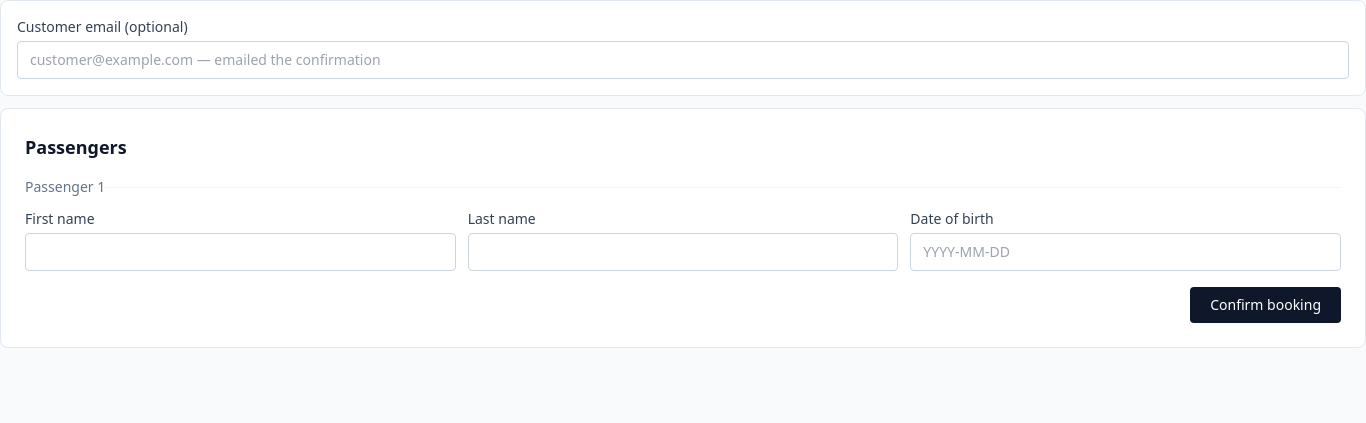
Test: BookingFlow › shows an error and no confirmation when the booking fails
Type "Jane" into the field labelled "First name" at {"x": 240, "y": 252}, box top-left (25, 233), bottom-right (456, 271)
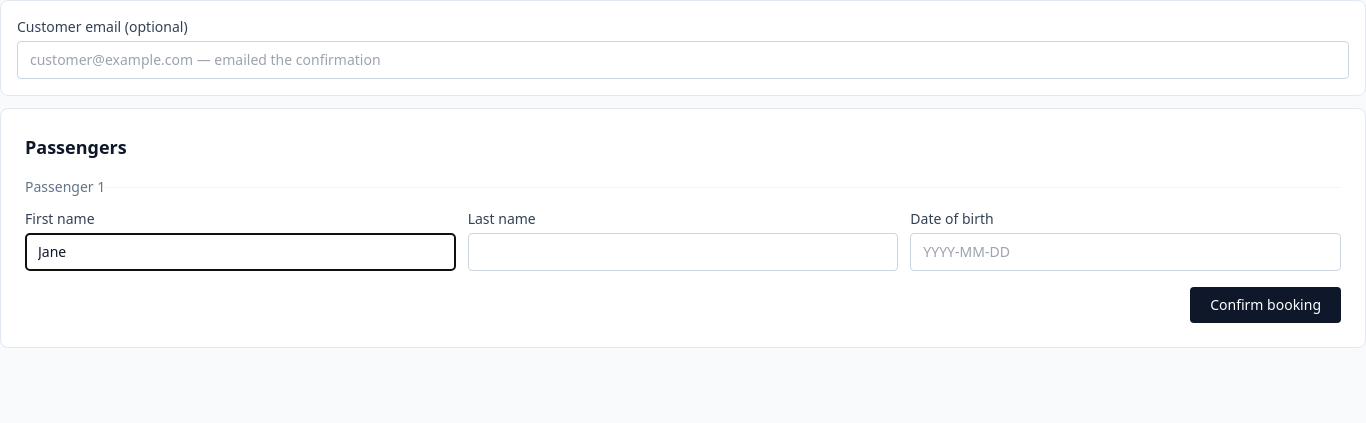
Type "Doe" into the field labelled "Last name" at {"x": 683, "y": 252}, box top-left (468, 233), bottom-right (898, 271)
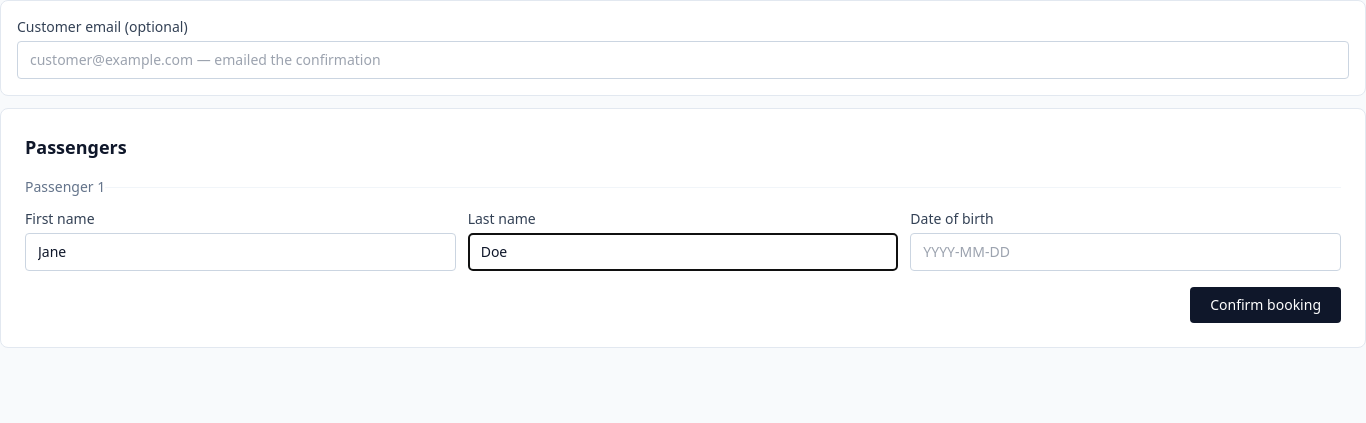
Type "1990-01-01" into the field labelled "Date of birth" at {"x": 1126, "y": 252}, box top-left (910, 233), bottom-right (1341, 271)
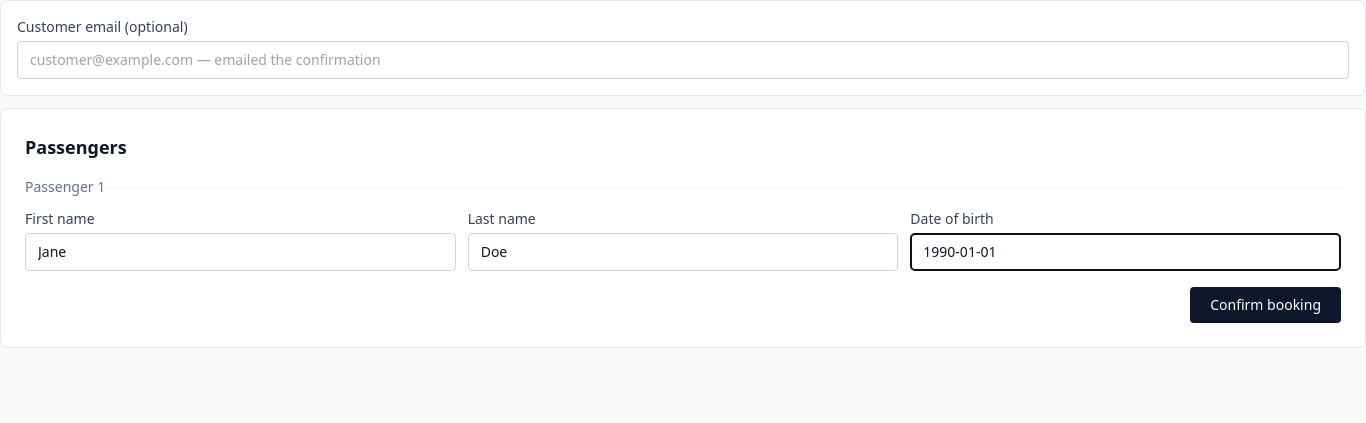
Click the button "Confirm booking" at {"x": 1266, "y": 305}, box top-left (1190, 287), bottom-right (1341, 323)
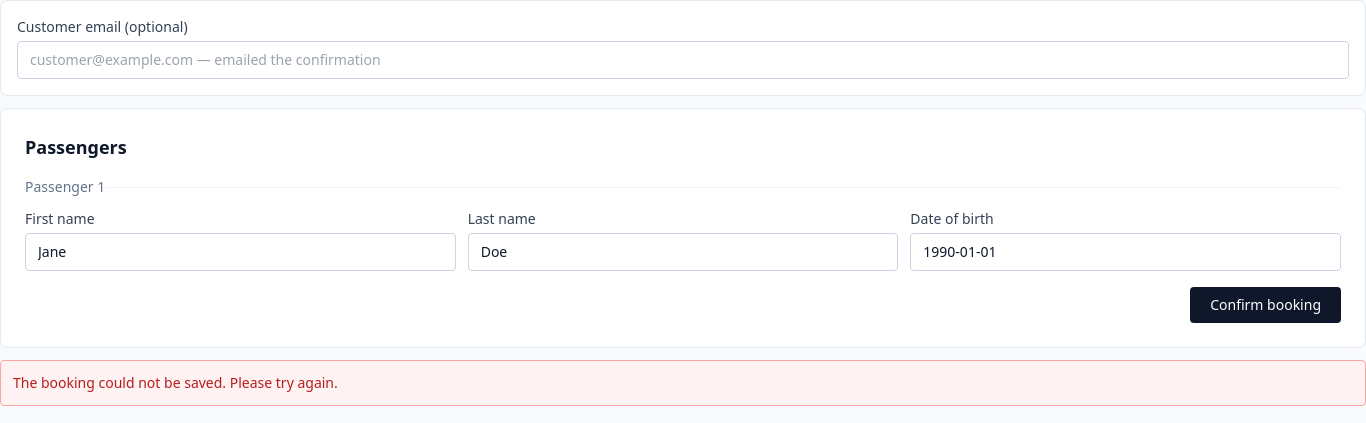
Expected: the message "The booking could not be saved. Please try again." is shown, top-left (0, 360), bottom-right (1365, 406)
